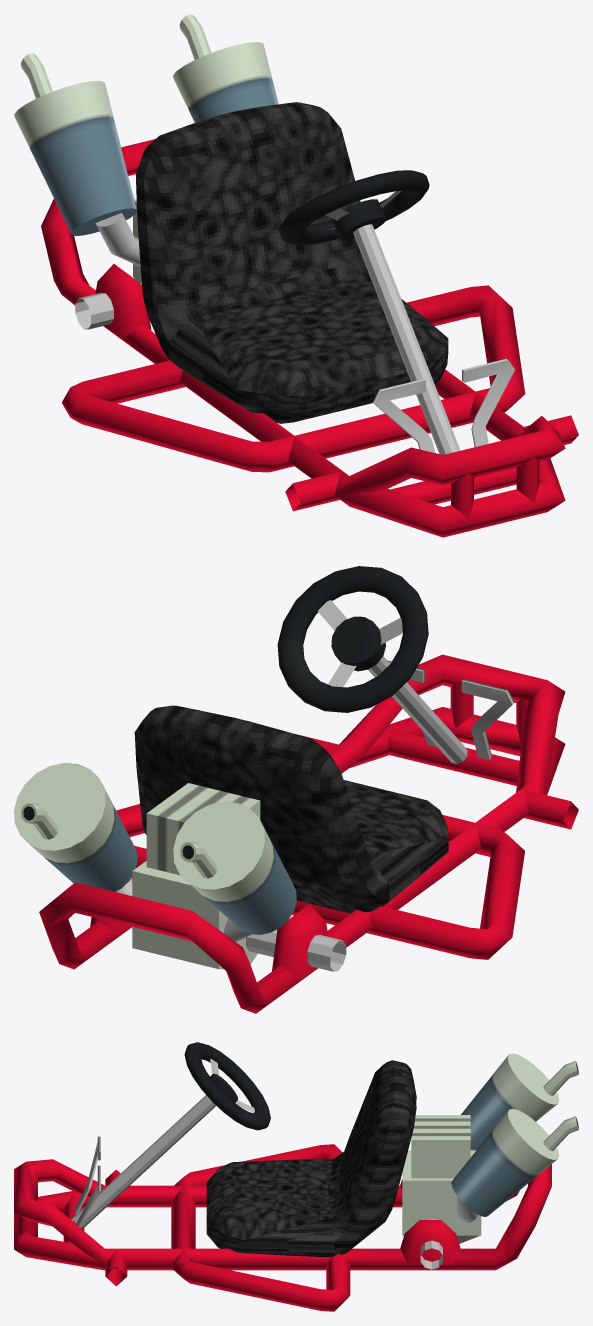
The model's file is Kart.obj.
3 renders of one model, top to bottom at view 1: azimuth 30°, elevation 25°; view 2: azimuth 150°, elevation 25°; view 3: azimuth 270°, elevation 25°, orthographic. The views are drawn at different scales.
Parts seen in each view (by area): view 1: pPlaneShape5; view 2: pPlaneShape5; view 3: pPlaneShape5.
Part boxes in pixels (bbox=[...]): pPlaneShape5: bbox=[14, 14, 578, 537]; pPlaneShape5: bbox=[14, 566, 578, 1013]; pPlaneShape5: bbox=[14, 1042, 578, 1311].
Bounding box in the file's own units: 10.42 × 6.01 × 16.24.
Materials: 8 (8 with a texture image).
